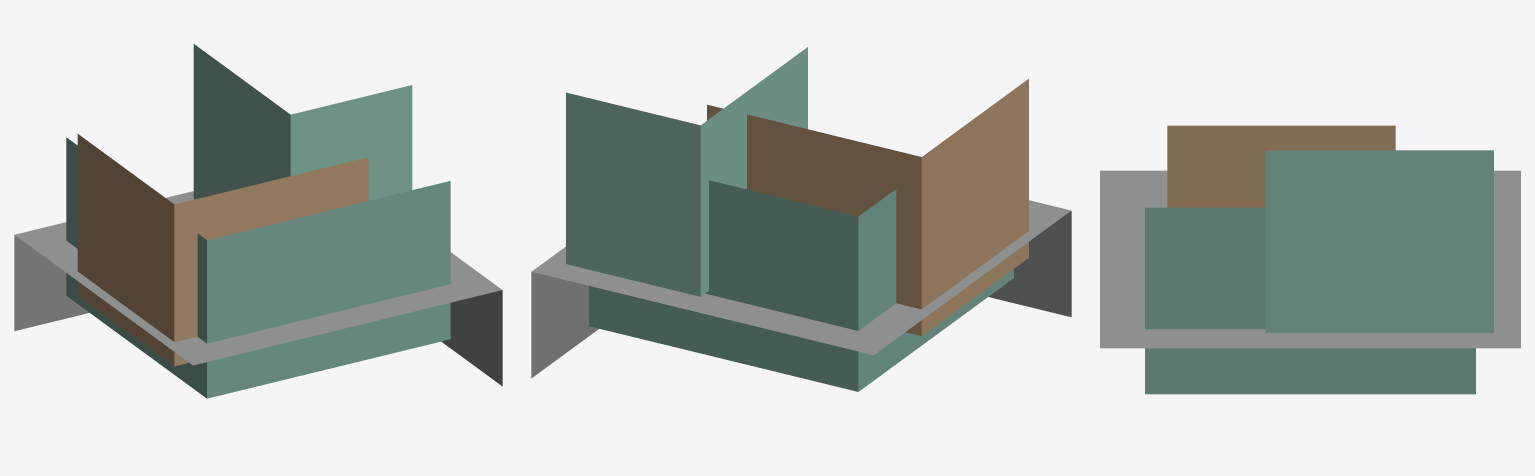
Rendered from ore_copper.glb.
3 views of the same model, side by side, from view 1: azimuth 30°, elevation 25°; view 2: azimuth 150°, elevation 25°; view 3: azimuth 270°, elevation 25° (orthographic). The views are drawn at different scales.
Parts seen in each view (by area): view 1: Ore_Copper_Primary, Ore_Copper_Secondary, Ore_Copper_Accent, Ore_Copper_Matrix; view 2: Ore_Copper_Primary, Ore_Copper_Secondary, Ore_Copper_Accent, Ore_Copper_Matrix; view 3: Ore_Copper_Accent, Ore_Copper_Primary, Ore_Copper_Matrix, Ore_Copper_Secondary.
Part boxes in pixels (bbox=[...]): Ore_Copper_Primary: bbox=[66, 137, 450, 398]; Ore_Copper_Secondary: bbox=[77, 134, 368, 366]; Ore_Copper_Accent: bbox=[193, 44, 412, 200]; Ore_Copper_Matrix: bbox=[14, 191, 502, 386]; Ore_Copper_Primary: bbox=[589, 180, 1013, 391]; Ore_Copper_Secondary: bbox=[707, 79, 1028, 335]; Ore_Copper_Accent: bbox=[566, 47, 807, 296]; Ore_Copper_Matrix: bbox=[531, 200, 1071, 378]; Ore_Copper_Accent: bbox=[1265, 150, 1493, 332]; Ore_Copper_Primary: bbox=[1145, 207, 1475, 394]; Ore_Copper_Matrix: bbox=[1100, 170, 1520, 348]; Ore_Copper_Secondary: bbox=[1167, 125, 1395, 207].
Size of the model in its own units: 0.94 by 0.74 by 0.94.
